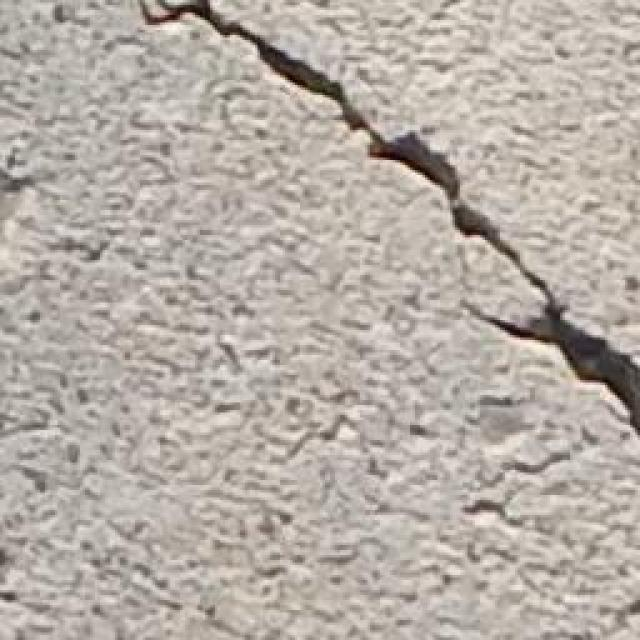concrete-crack: (127, 2, 640, 438)
